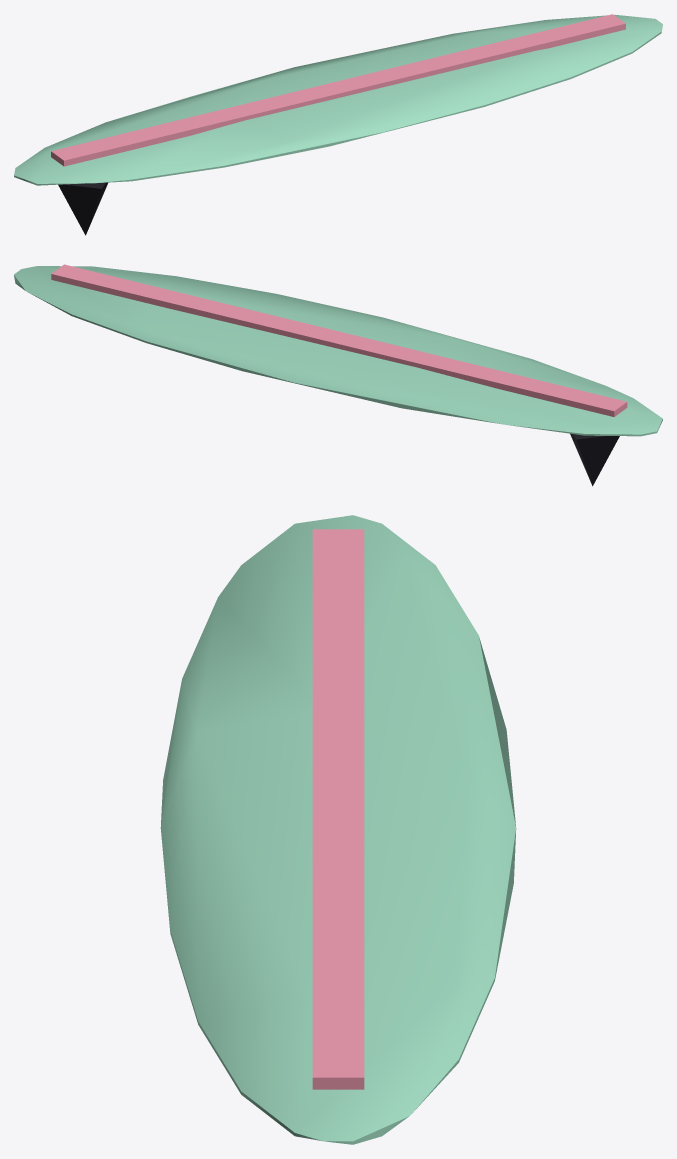
Rendered from surfboard.glb.
3 renders of one model, top to bottom at view 1: azimuth 30°, elevation 25°; view 2: azimuth 150°, elevation 25°; view 3: azimuth 270°, elevation 25°, orthographic. The views are drawn at different scales.
Parts seen in each view (by area): view 1: surfboard; view 2: surfboard; view 3: surfboard.
Boxes of the visible parts, x1,y1,x2,y2 form: surfboard: (14,14,662,235); surfboard: (14,264,662,486); surfboard: (160,515,516,1144).
Size of the model in its own units: 2.28 by 0.295 by 0.548.
Materials: 1 (1 with a texture image).
